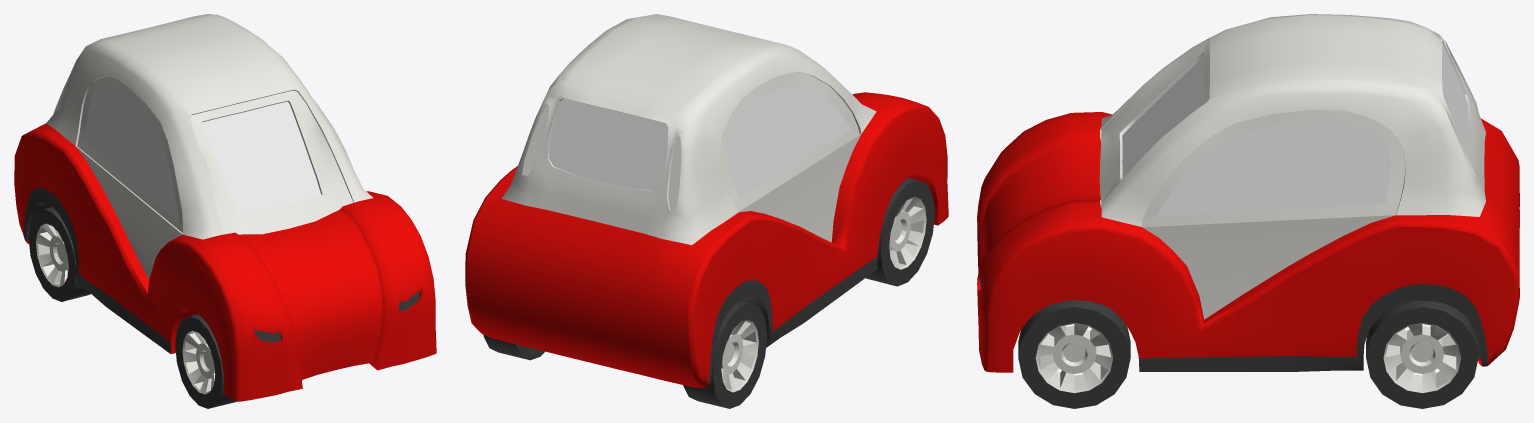
The model's file is Asimov araba2.fbx.
3 views of the same model, side by side, from view 1: azimuth 30°, elevation 25°; view 2: azimuth 150°, elevation 25°; view 3: azimuth 270°, elevation 25° (orthographic). The views are drawn at different scales.
Parts seen in each view (by area): view 1: araba alt, araba_ust, camlar, sagarkateker, Sagonteker; view 2: araba alt, araba_ust, camlar, sagarkateker, Sagonteker; view 3: araba alt, araba_ust, camlar, Solonteker, sagarkateker.
Part boxes in pixels (x1,y1,x2,y2): araba alt: (14, 123, 436, 401); araba_ust: (46, 14, 372, 279); camlar: (84, 88, 320, 220); sagarkateker: (28, 207, 90, 301); Sagonteker: (175, 314, 236, 408); araba alt: (465, 92, 948, 388); araba_ust: (501, 14, 876, 244); camlar: (549, 77, 850, 198); sagarkateker: (483, 300, 767, 408); Sagonteker: (865, 177, 934, 286); araba alt: (977, 112, 1519, 372); araba_ust: (1099, 14, 1485, 319); camlar: (1122, 44, 1468, 216); Solonteker: (1018, 300, 1130, 408); sagarkateker: (1366, 300, 1478, 408).
Size of the model in its own units: 271 by 324 by 523.
